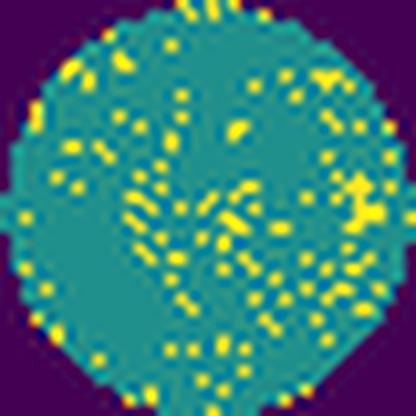Loc: (332, 166, 385, 233)
